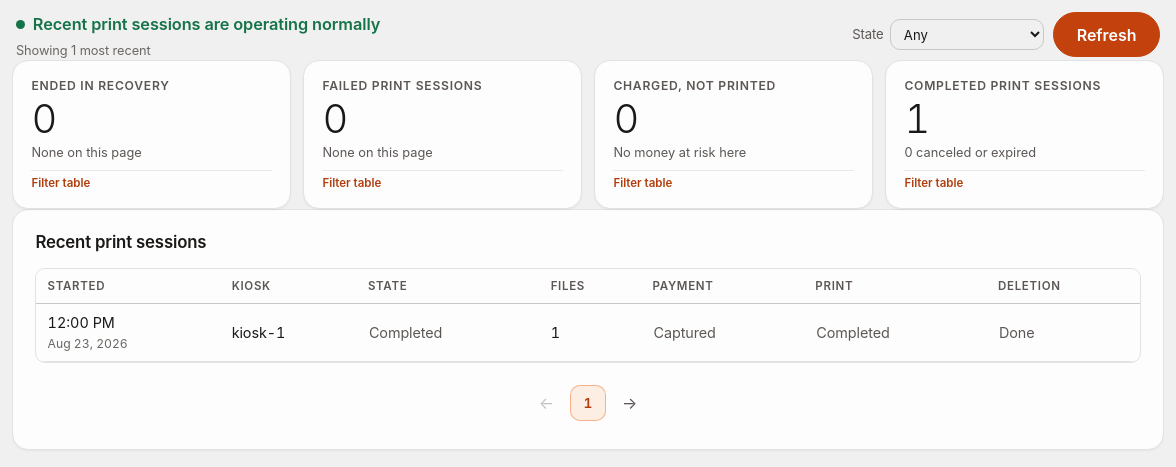
Test: numbered pagination › grows the numbered trail as pages are discovered, and disables the arrows at each end
The width and height of the screenshot is (1176, 467).
Expected: the text "kiosk-1" is shown, [220,304,357,361]
Expected: the button named "Previous page" is disabled, [528,385,564,421]
Click the button named "Next page": (630, 403) [612,385,648,421]
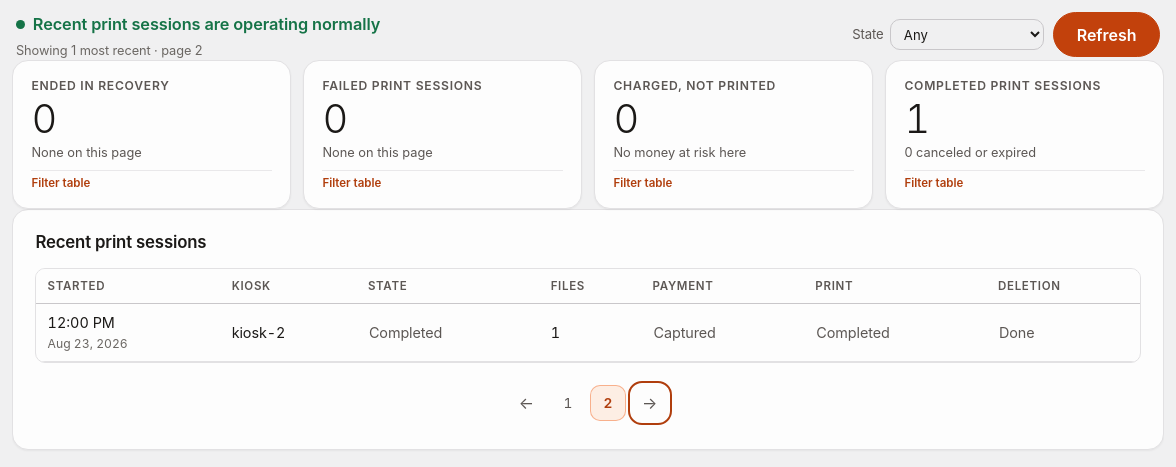
Now the text "kiosk-2" is shown, box [220,304,357,361]
Click the button named "Next page": (650, 403) [632,385,668,421]
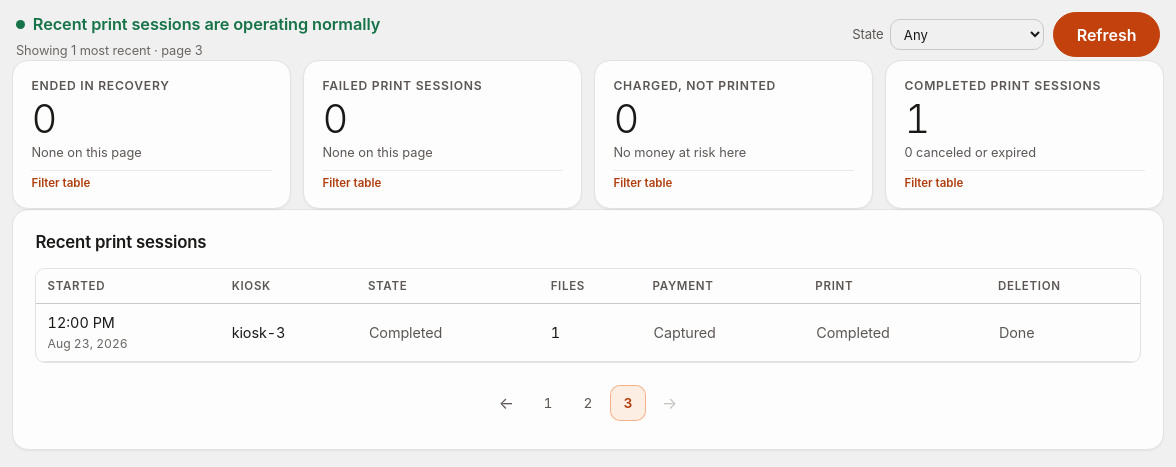
Now the button named "Page 2" is enabled, box [570,385,606,421]
Now the text "kiosk-3" is shown, box [220,304,357,361]
Now the button named "Next page" is disabled, box [652,385,688,421]
